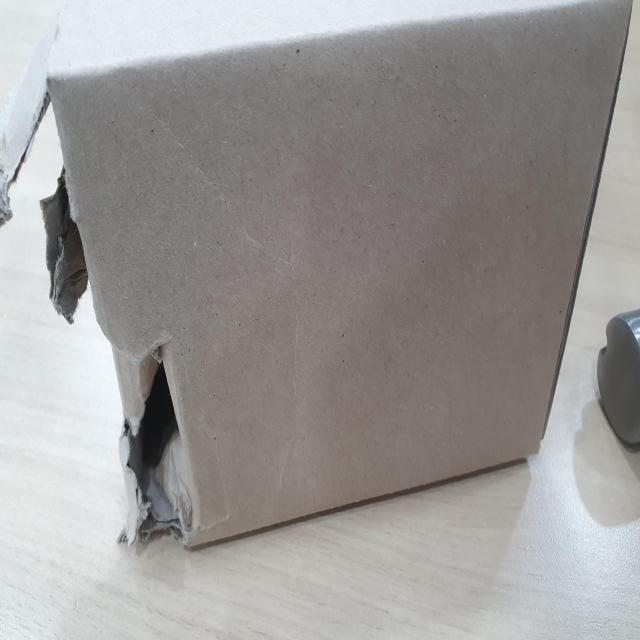damaged: (112, 337, 195, 555)
